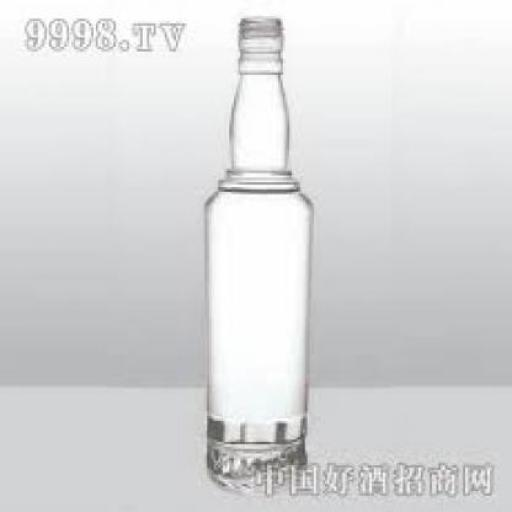glass: (205, 14, 309, 472)
